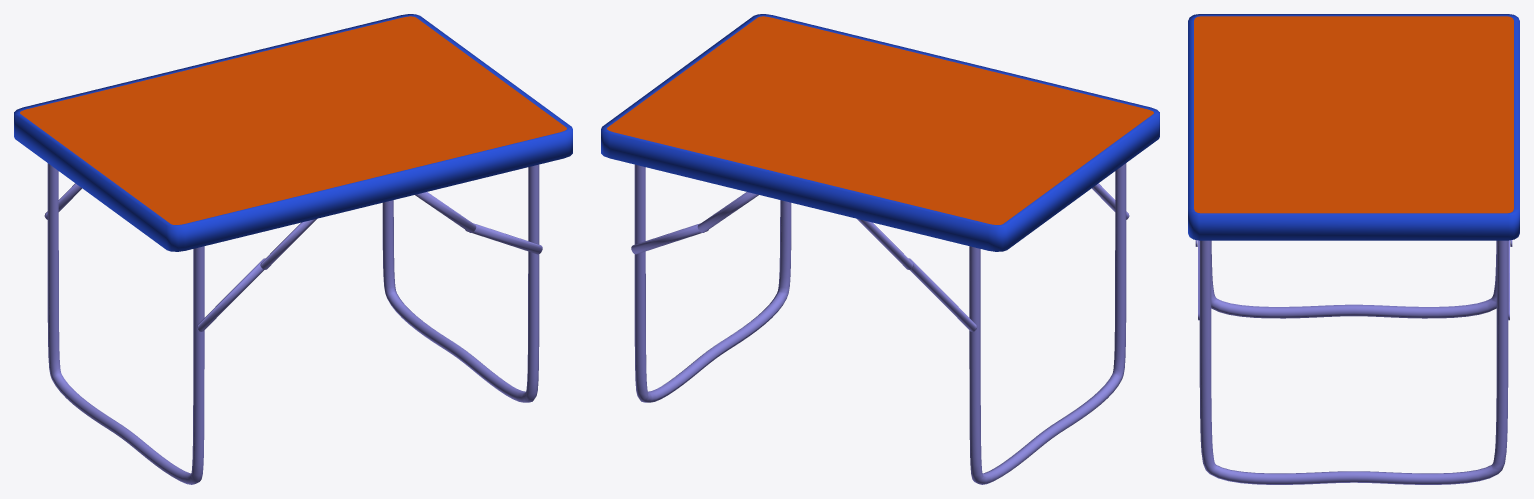
The model's file is table_low.fbx.
3 views of the same model, side by side, from view 1: azimuth 30°, elevation 25°; view 2: azimuth 150°, elevation 25°; view 3: azimuth 270°, elevation 25° (orthographic).
Visible parts, largest first — view 1: table_low; view 2: table_low; view 3: table_low.
Boxes of the visible parts, x1=… form: table_low: x1=14, y1=14, x2=572, y2=484; table_low: x1=601, y1=14, x2=1159, y2=484; table_low: x1=1188, y1=14, x2=1519, y2=484.
Bounding box in the file's own units: 642 × 425 × 446.
